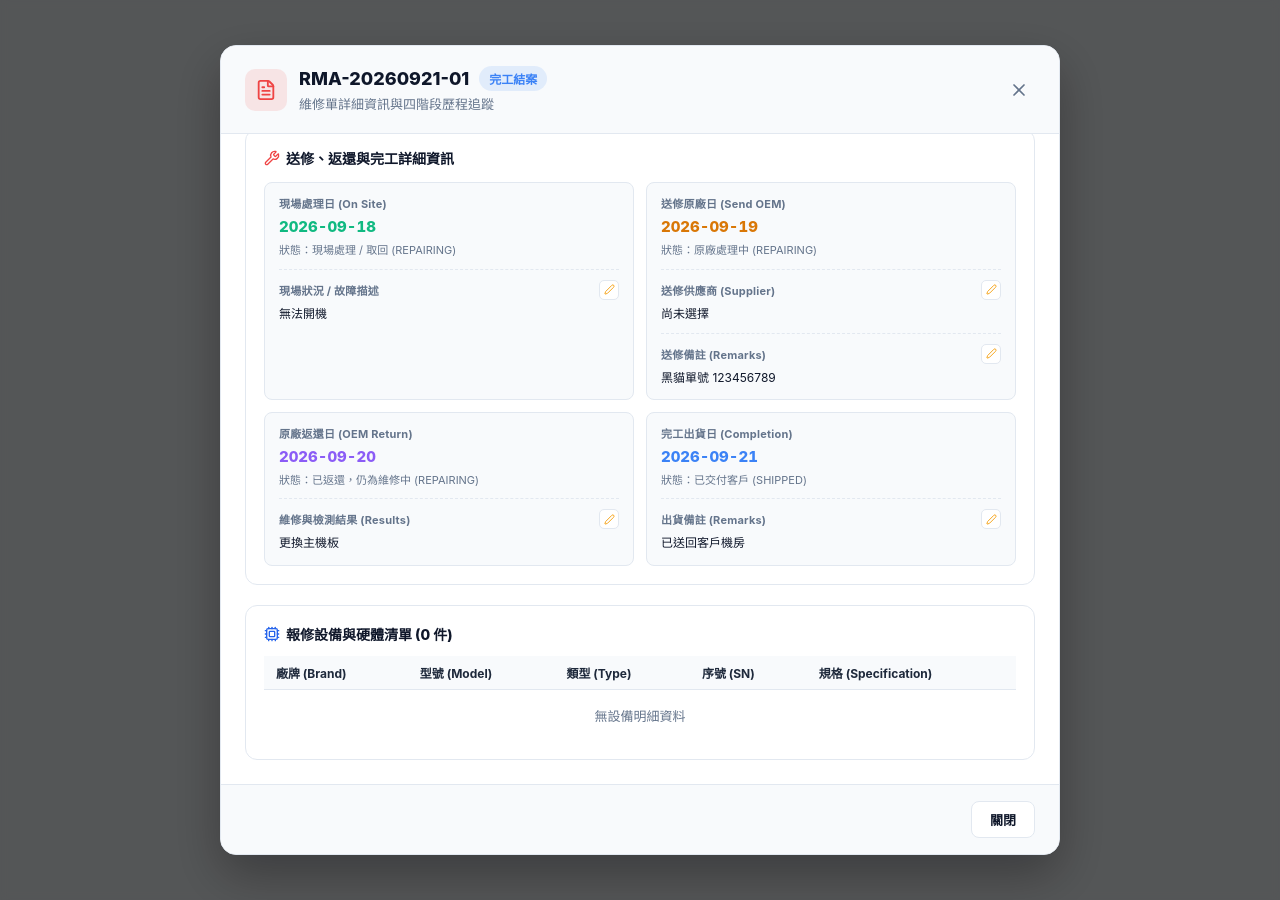
Test: 詳情裡修改四個階段的說明 › 取消不會寫入任何東西
(page scrolled)
Click the button named "修改維修與檢測結果" at [609, 519], box [599, 509, 619, 529]
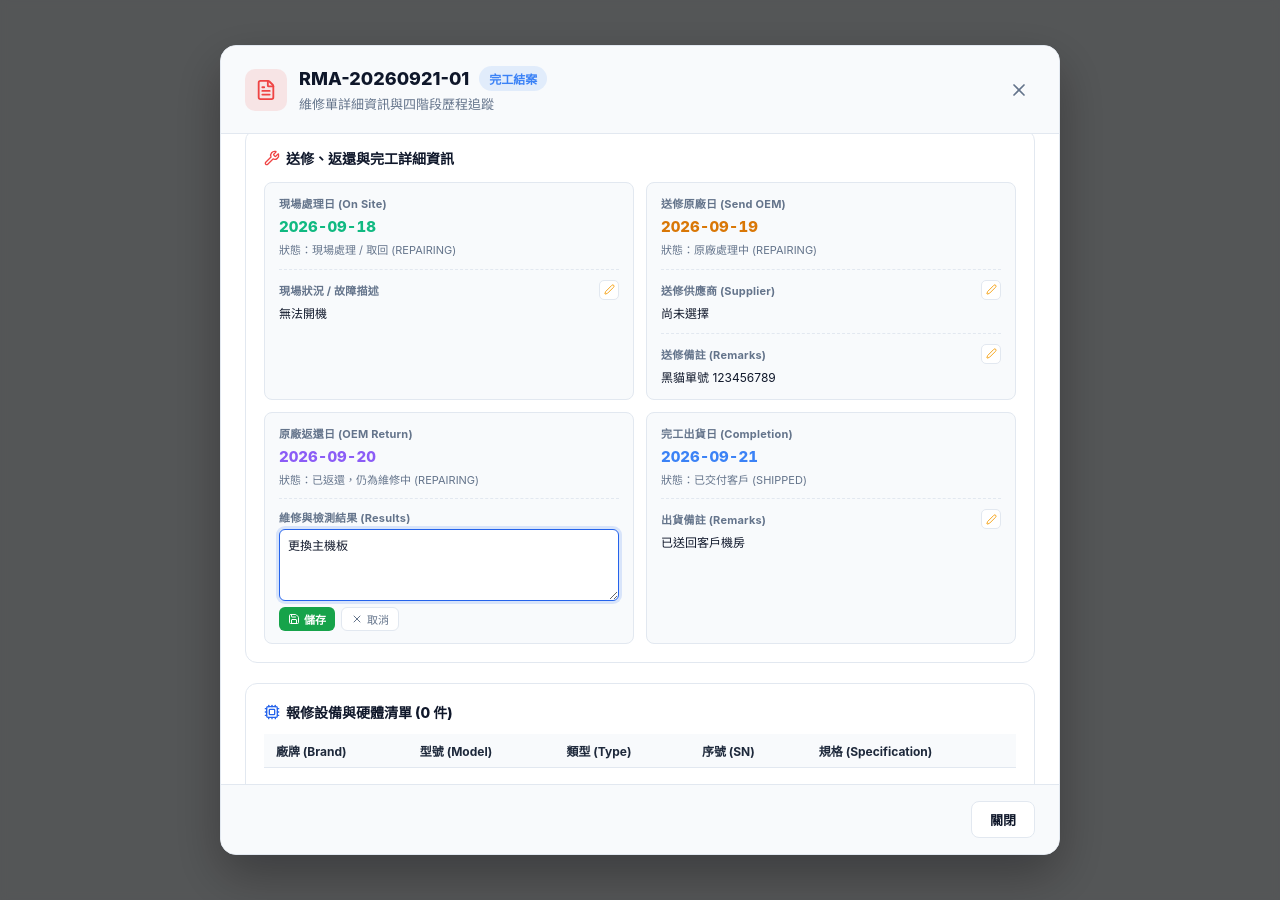
Replace the text in the text box named "修改維修與檢測結果" with "改到一半反悔" at [449, 565], box [279, 529, 619, 601]
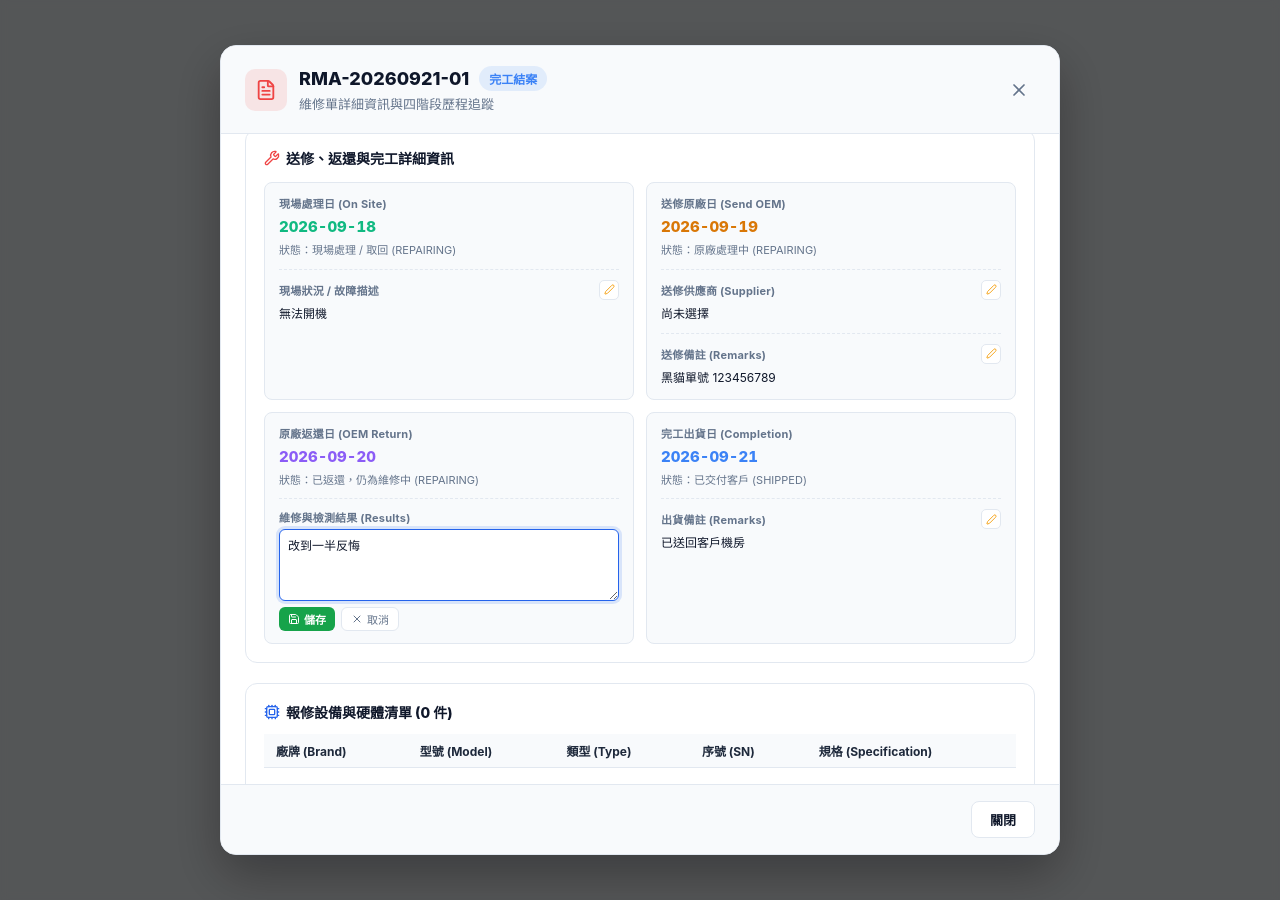
Click the button with aria-label "取消修改維修與檢測結果" at [370, 619], box [341, 607, 399, 631]
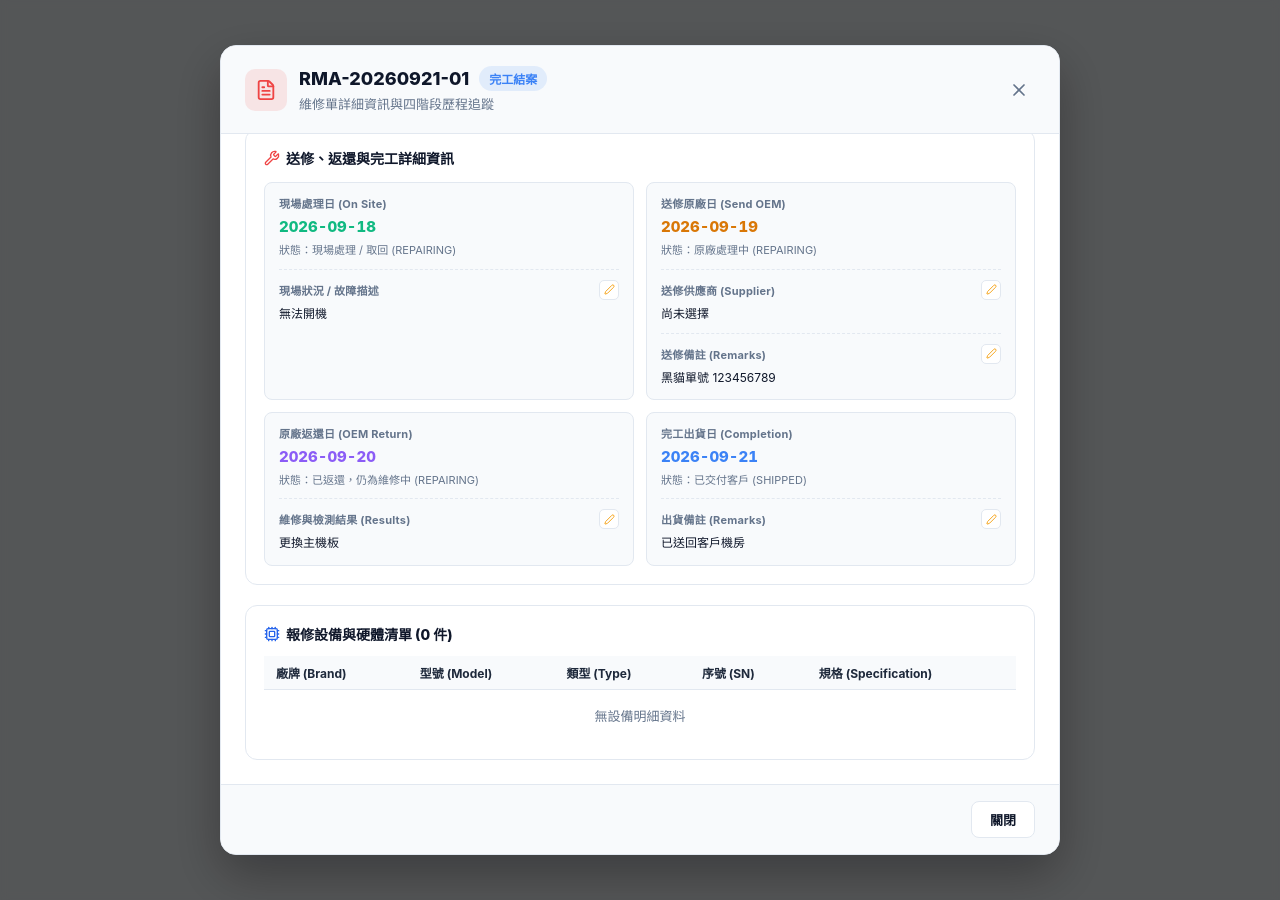
Expected: the button named "修改維修與檢測結果" is shown, [599, 509, 619, 529]
